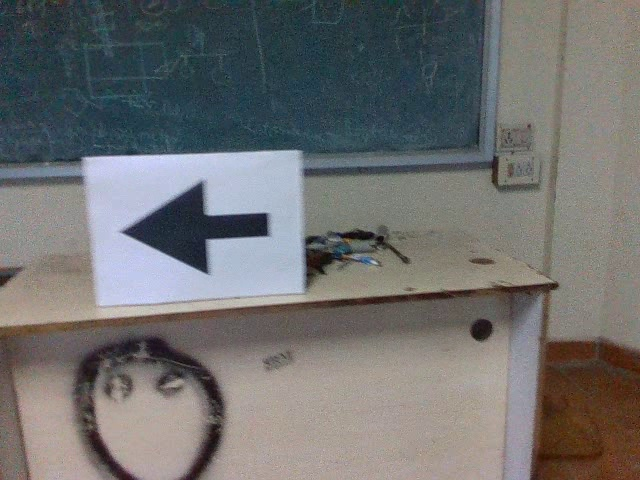Left: (107, 177, 275, 282)
